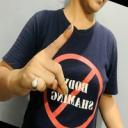hand: (14, 24, 74, 96)
